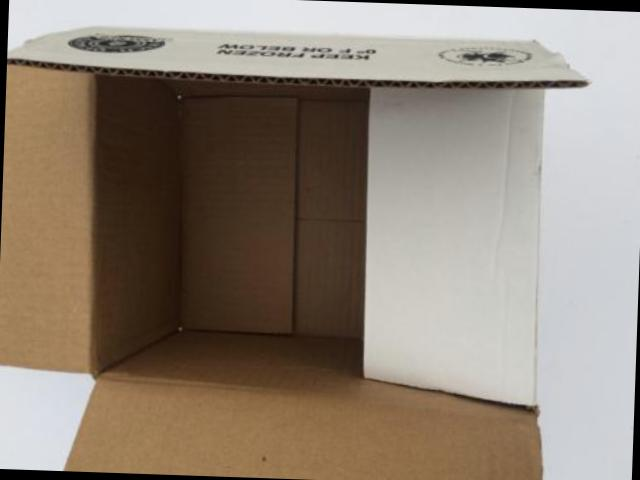cardboard paper: (0, 24, 583, 480)
